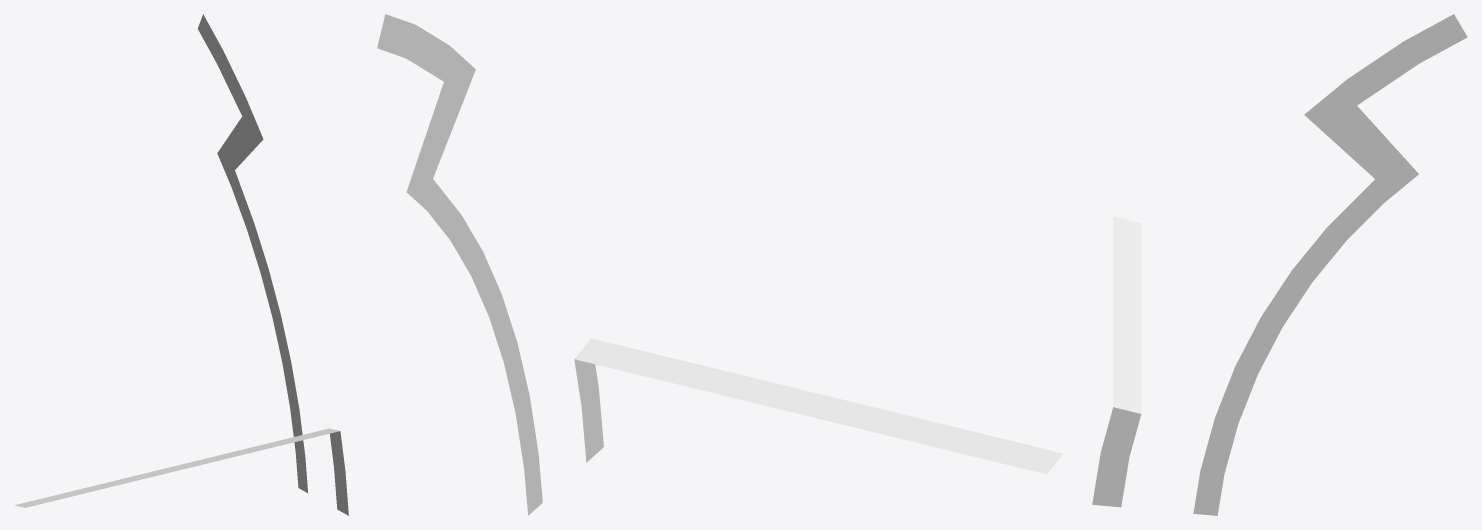
File: RadiusMTA_FX_A.fbx
The picture shows the model from 3 angles, left to right: view 1: azimuth 30°, elevation 25°; view 2: azimuth 150°, elevation 25°; view 3: azimuth 270°, elevation 25°; orthographic projection. The views are drawn at different scales.
Visible parts, largest first — view 1: Empty_Mesh; view 2: Empty_Mesh; view 3: Empty_Mesh.
Part boxes in pixels (x1,y1,x2,y2): Empty_Mesh: (14, 14, 348, 515); Empty_Mesh: (377, 14, 1063, 515); Empty_Mesh: (1092, 14, 1467, 515).
Size of the model in its own units: 1400 by 1717 by 1164.
